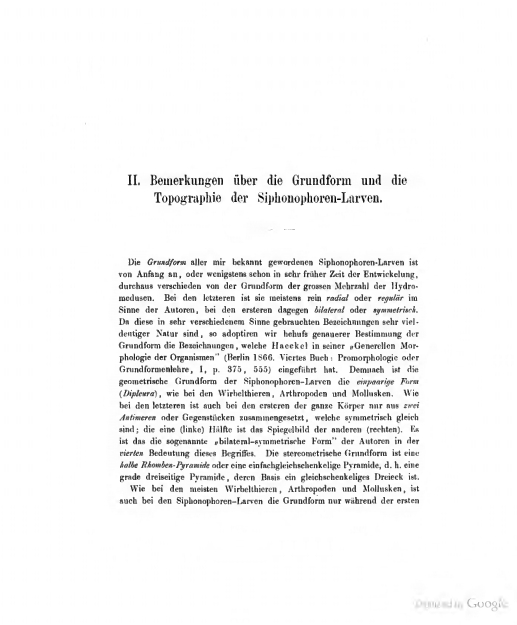Customzone_title: (112, 164, 414, 224)
MainZone: (104, 249, 432, 515)
NoiseZone: (399, 585, 517, 625)
